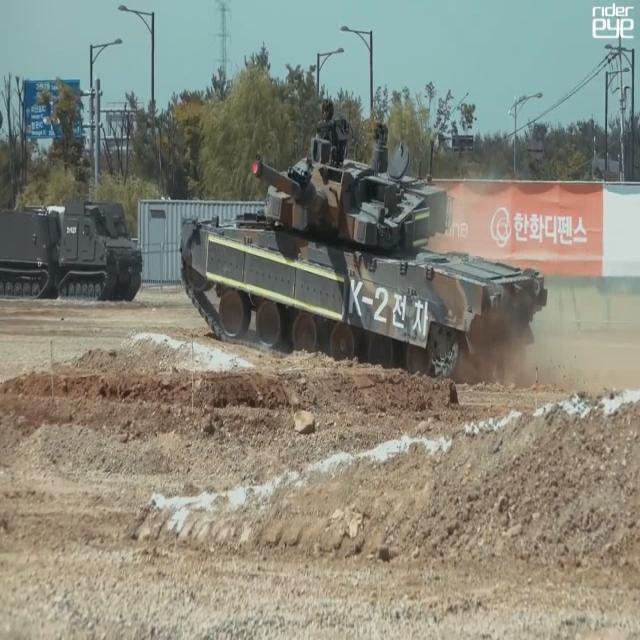korea tank: (177, 96, 549, 379)
